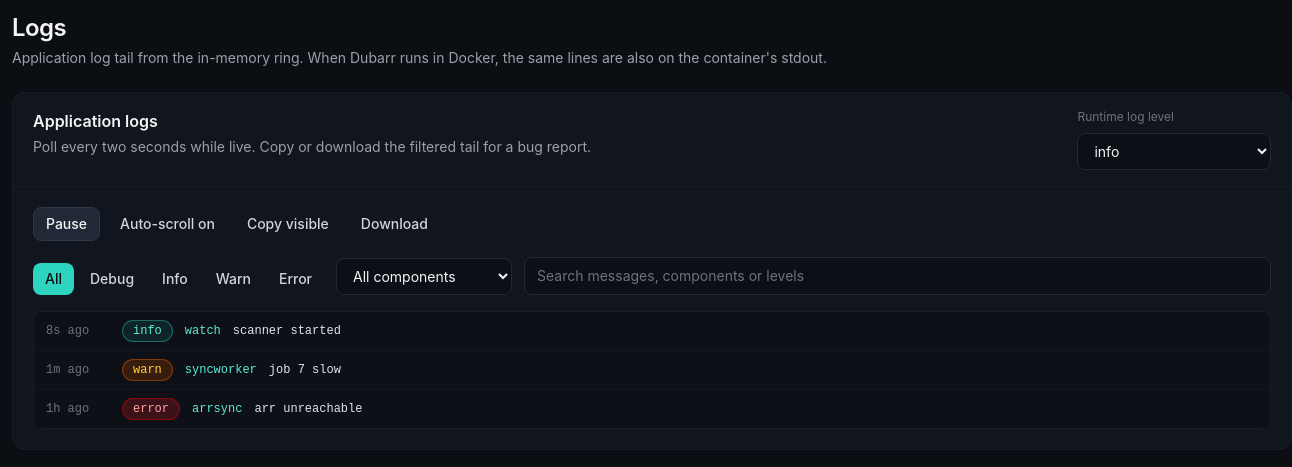
Scenario: logs page › pauses and resumes the live tail
Check: the text "scanner started" is shown, box [233,324,341,338]
Click the button "Pause" at (67, 224), box [33,207,100,241]
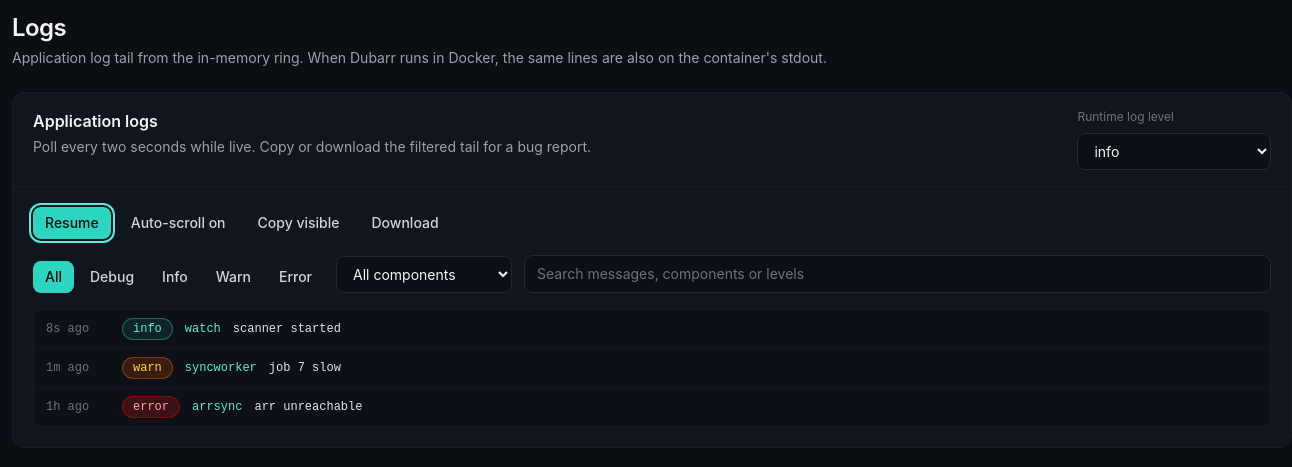
Check: the button "Resume" is shown
Click the button "Resume" at (72, 223), box [33,207,111,239]
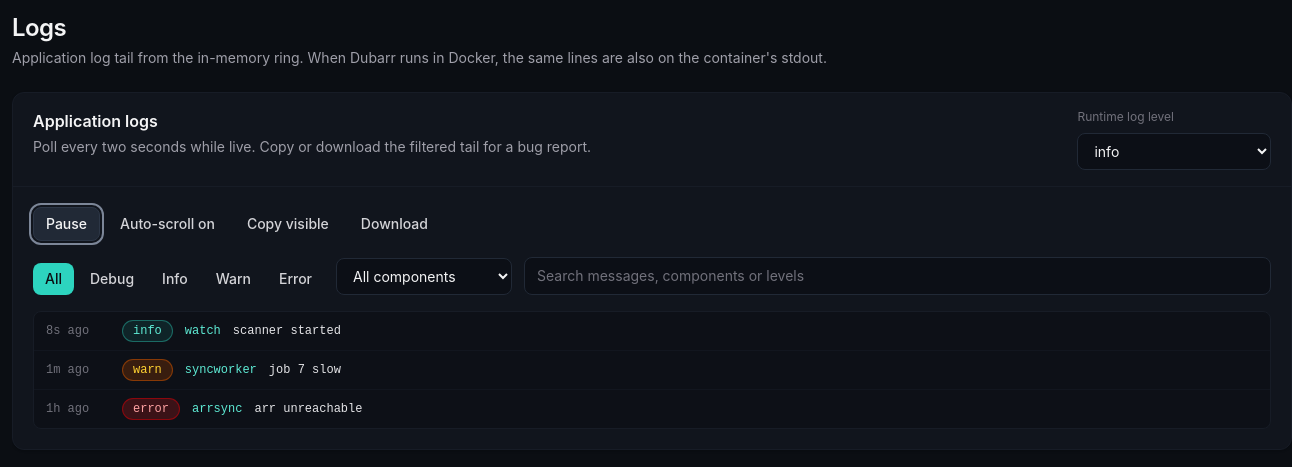
Check: the button "Pause" is shown, box [33,207,100,241]
